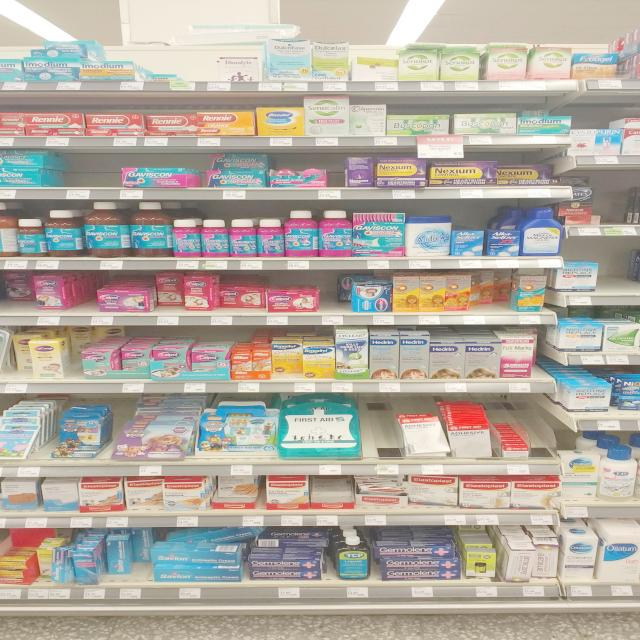empty_space: (50, 152, 119, 188), (598, 261, 634, 295), (358, 415, 391, 448), (316, 286, 348, 310), (186, 56, 218, 80), (1, 298, 41, 314), (109, 571, 151, 585), (82, 292, 97, 312)
